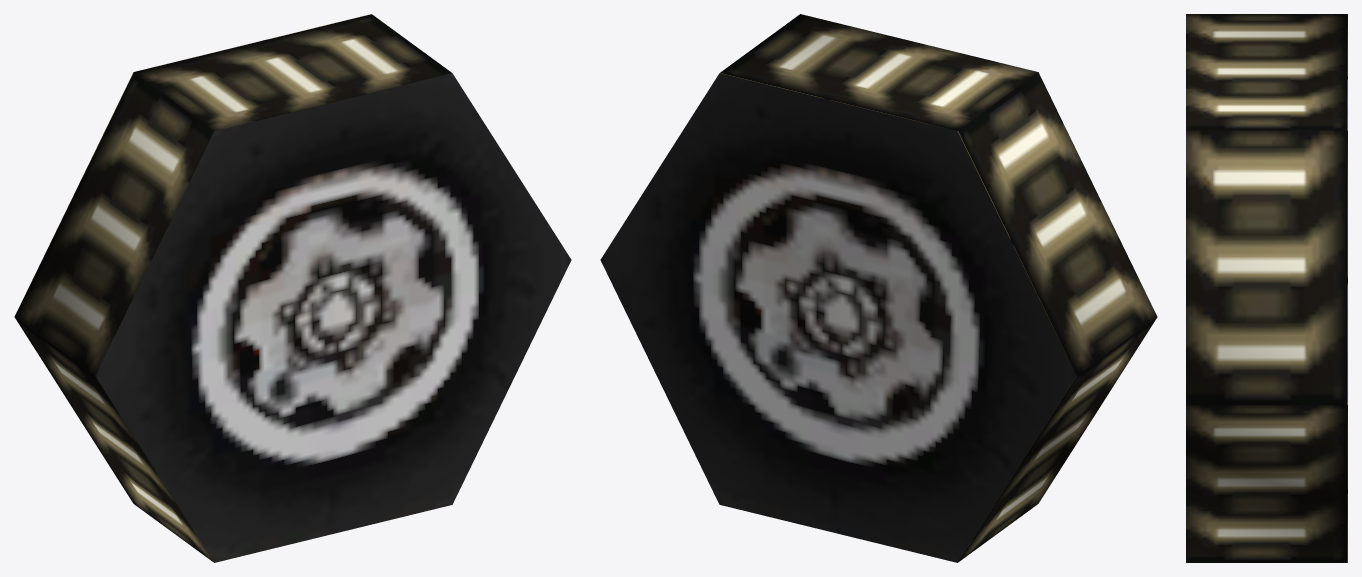
The model's file is GLA - Ground Vehicles - = - Damage State 3 - UVTechVan_d3.glb.
3 renders of one model, left to right at view 1: azimuth 30°, elevation 25°; view 2: azimuth 150°, elevation 25°; view 3: azimuth 270°, elevation 25°, orthographic.
Parts seen in each view (by area): view 1: UVTECHVAN_D3; view 2: UVTECHVAN_D3; view 3: UVTECHVAN_D3.
Part boxes in pixels (box(x1,y1,x2,y2)): UVTECHVAN_D3: box(14, 14, 571, 562); UVTECHVAN_D3: box(600, 14, 1157, 562); UVTECHVAN_D3: box(1186, 14, 1347, 562).
Size of the model in its own units: 4.79 by 4.15 by 1.41.
Materials: 1 (1 with a texture image).
